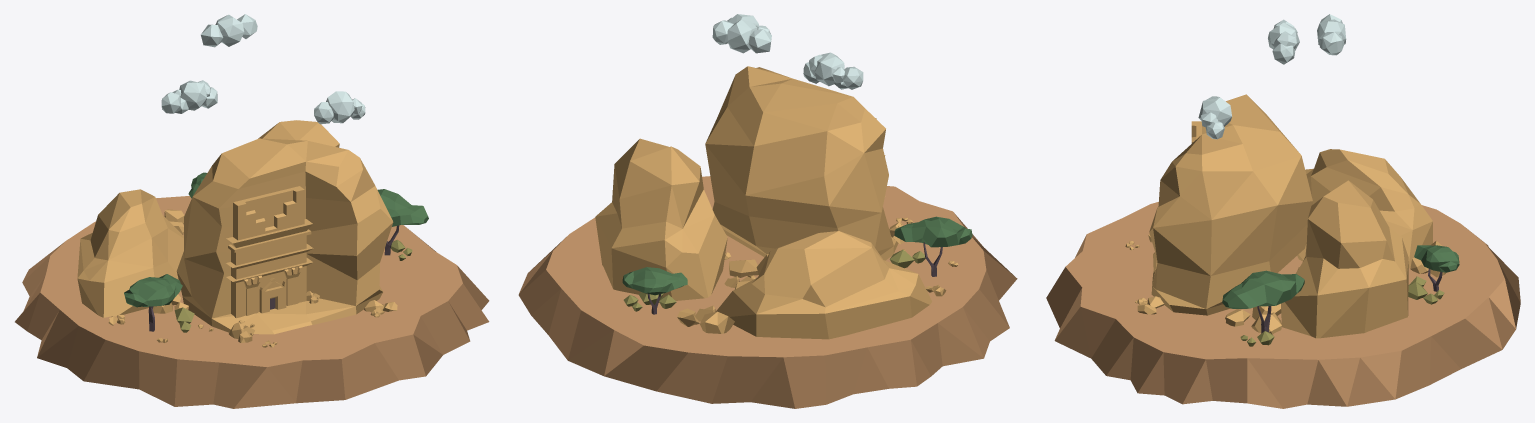
Rendered from Madain_Saleh.fbx.
The picture shows the model from 3 angles, left to right: view 1: azimuth 30°, elevation 25°; view 2: azimuth 150°, elevation 25°; view 3: azimuth 270°, elevation 25°; orthographic projection. The views are drawn at different scales.
Visible parts, largest first — view 1: Madain_Saleh1:polySurface3045, Madain_Saleh1:polySurface3047, Madain_Saleh1:polySurface3052, Madain_Saleh1:polySurface3049, Madain_Saleh1:pSphere45, polySurface4, polySurface19, Madain_Saleh1:polySurface3046, polySurface13, Madain_Saleh1:pSphere48; view 2: Madain_Saleh1:polySurface3045, Madain_Saleh1:polySurface3047, Madain_Saleh1:polySurface3052, Madain_Saleh1:polySurface3046, Madain_Saleh1:pSphere45, polySurface4, polySurface19, Madain_Saleh1:pSphere48, Madain_Saleh1:pSphere76, Madain_Saleh1:pSphere72; view 3: Madain_Saleh1:polySurface3045, Madain_Saleh1:polySurface3047, Madain_Saleh1:polySurface3046, Madain_Saleh1:polySurface3052, Madain_Saleh1:pSphere48 (×2), polySurface13, polySurface4, polySurface19.
Part boxes in pixels (x1,y1,x2,y2): Madain_Saleh1:polySurface3045: (15, 196, 489, 408); Madain_Saleh1:polySurface3047: (176, 138, 393, 334); Madain_Saleh1:polySurface3052: (77, 189, 183, 317); Madain_Saleh1:polySurface3049: (226, 186, 313, 318); Madain_Saleh1:pSphere45: (124, 274, 182, 307); polySurface4: (161, 80, 217, 113); polySurface19: (201, 14, 257, 47); Madain_Saleh1:polySurface3046: (258, 120, 339, 147); polySurface13: (314, 91, 365, 124); Madain_Saleh1:pSphere48: (377, 189, 428, 226); Madain_Saleh1:polySurface3045: (518, 176, 1017, 408); Madain_Saleh1:polySurface3047: (705, 66, 898, 260); Madain_Saleh1:polySurface3052: (716, 231, 931, 339); Madain_Saleh1:polySurface3046: (595, 138, 727, 300); Madain_Saleh1:pSphere45: (894, 216, 972, 247); polySurface4: (803, 52, 863, 89); polySurface19: (712, 19, 771, 53); Madain_Saleh1:pSphere48: (622, 267, 687, 295); Madain_Saleh1:pSphere76: (700, 311, 734, 333); Madain_Saleh1:pSphere72: (729, 259, 758, 277); Madain_Saleh1:polySurface3045: (1046, 201, 1520, 408); Madain_Saleh1:polySurface3047: (1149, 94, 1312, 315); Madain_Saleh1:polySurface3046: (1281, 180, 1408, 338); Madain_Saleh1:polySurface3052: (1305, 149, 1432, 268); Madain_Saleh1:pSphere48 (×2): (1222, 245, 1459, 308); polySurface13: (1198, 96, 1232, 139); polySurface4: (1268, 19, 1299, 64); polySurface19: (1317, 14, 1346, 55).
Size of what is drawn, in the model's own units: 17.39 by 11.33 by 16.89.
